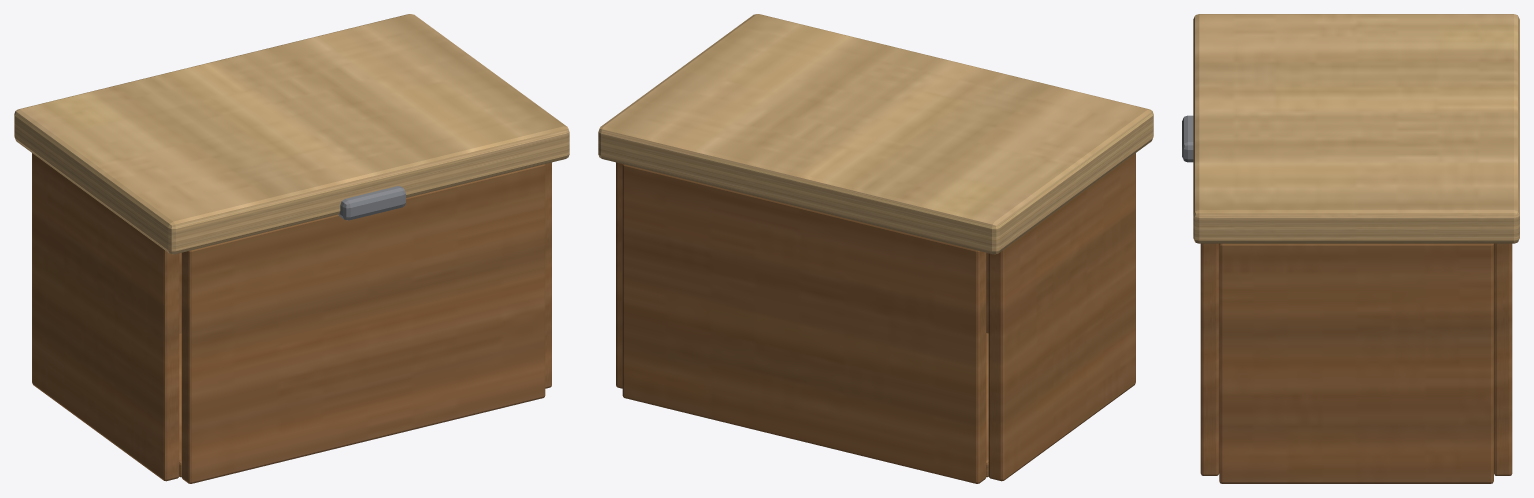
Rendered from chest.glb.
3 views of the same model, side by side, from view 1: azimuth 30°, elevation 25°; view 2: azimuth 150°, elevation 25°; view 3: azimuth 270°, elevation 25° (orthographic). The views are drawn at different scales.
Visible parts, largest first — view 1: chest_body_front, part_lid__chest, chest_body_left, chest_body_right; view 2: chest_body_back, part_lid__chest, chest_body_left, chest_body_right; view 3: part_lid__chest, chest_body_right, chest_body_front, chest_body_back.
Part boxes in pixels (box(x1,y1,x2,y2)): chest_body_front: box(181, 164, 545, 483); part_lid__chest: box(14, 14, 569, 254); chest_body_left: box(32, 153, 179, 481); chest_body_right: box(545, 162, 551, 388); chest_body_back: box(622, 164, 986, 483); part_lid__chest: box(598, 14, 1153, 254); chest_body_left: box(988, 153, 1135, 481); chest_body_right: box(616, 162, 622, 388); part_lid__chest: box(1182, 14, 1519, 243); chest_body_right: box(1219, 243, 1493, 483); chest_body_front: box(1200, 243, 1219, 475); chest_body_back: box(1494, 243, 1512, 475).
Bounding box in the file's own units: 0.64 × 0.41 × 0.455.
3 materials, 2 textured.
